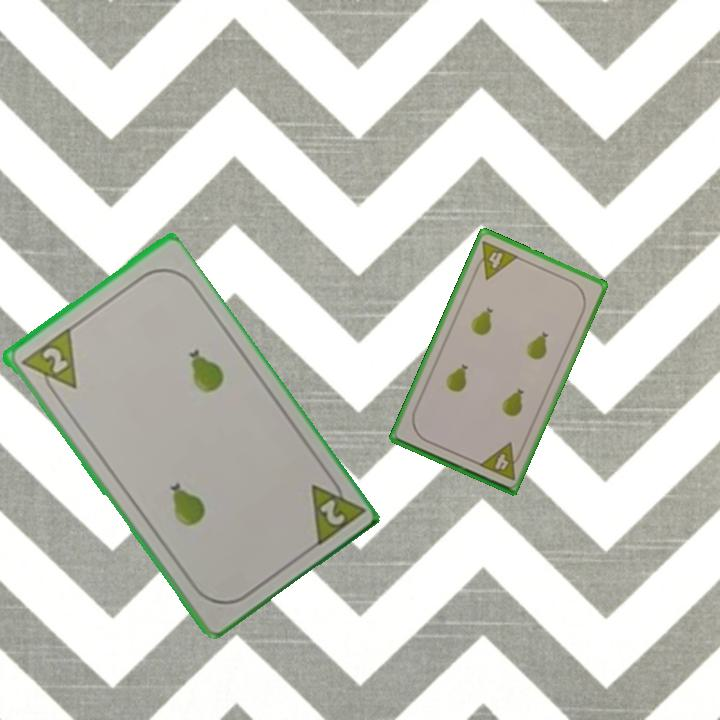2p: (17, 325, 80, 403), (306, 468, 365, 551)
4p: (470, 237, 521, 282), (475, 439, 526, 483)
